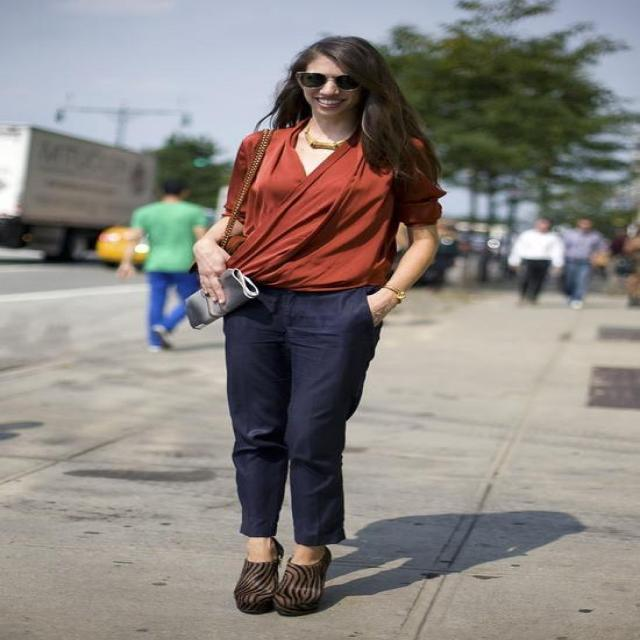Tshirt: (222, 118, 447, 292)
pants: (220, 281, 384, 543)
